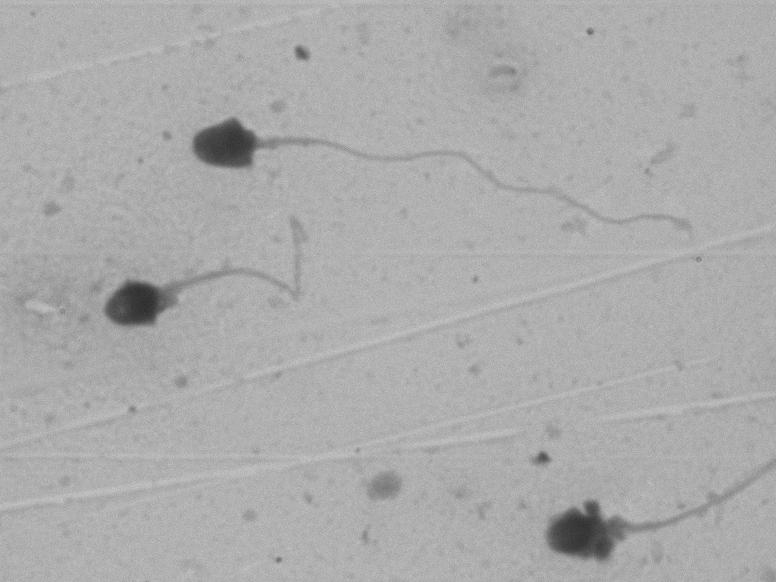Abnormal: (169, 104, 660, 207), (85, 214, 325, 348), (515, 440, 727, 568)
